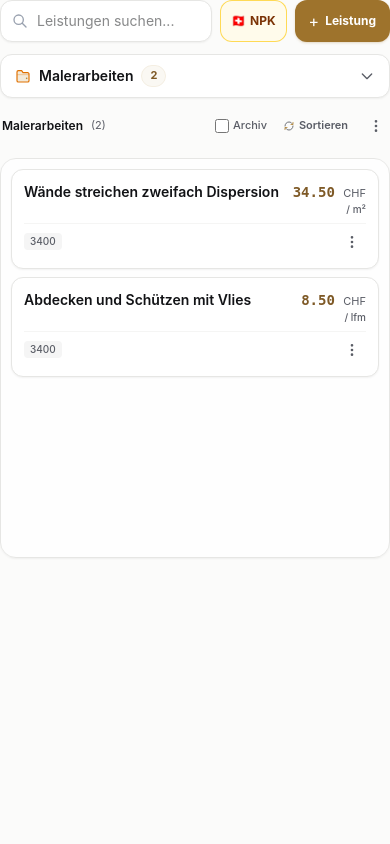
Test: KatalogView Mobile Optimization › opens bottom sheet when tapping a position card on mobile
The image size is (390, 844).
# Click on the position card
Click the text "Wände streichen zweifach Dispersion". click: click(152, 191)
box: [24,182,281,201]
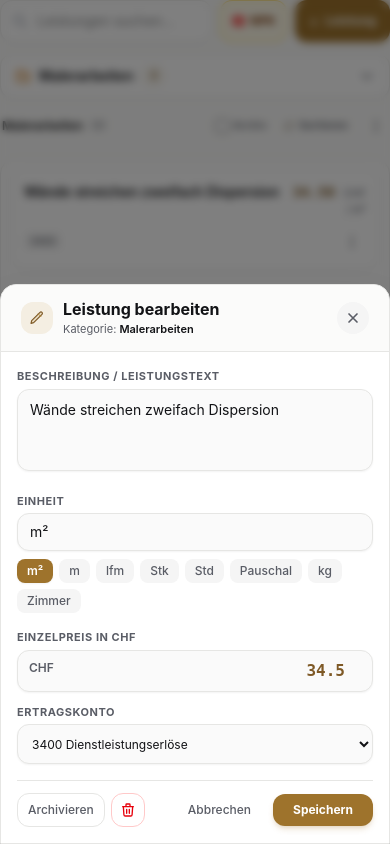
Now the heading "Leistung bearbeiten" is shown, box [63,298,220,318]
